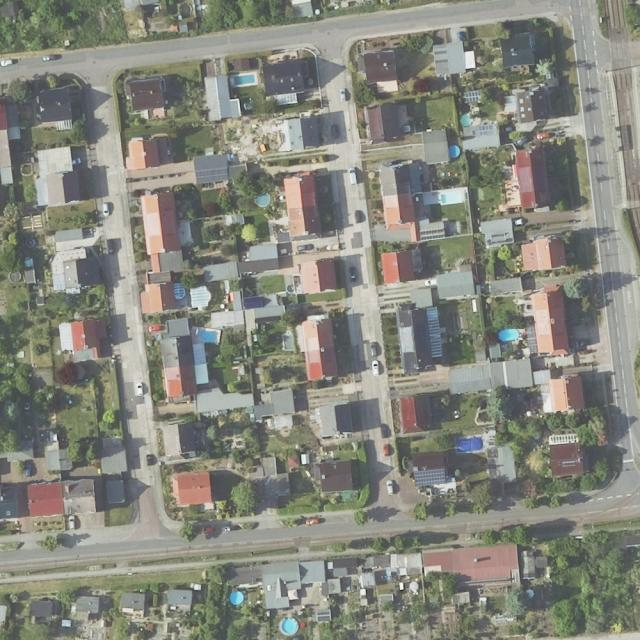PV: (414, 469, 446, 487), (194, 167, 229, 183), (420, 227, 445, 241), (461, 90, 481, 103), (478, 124, 492, 137)
